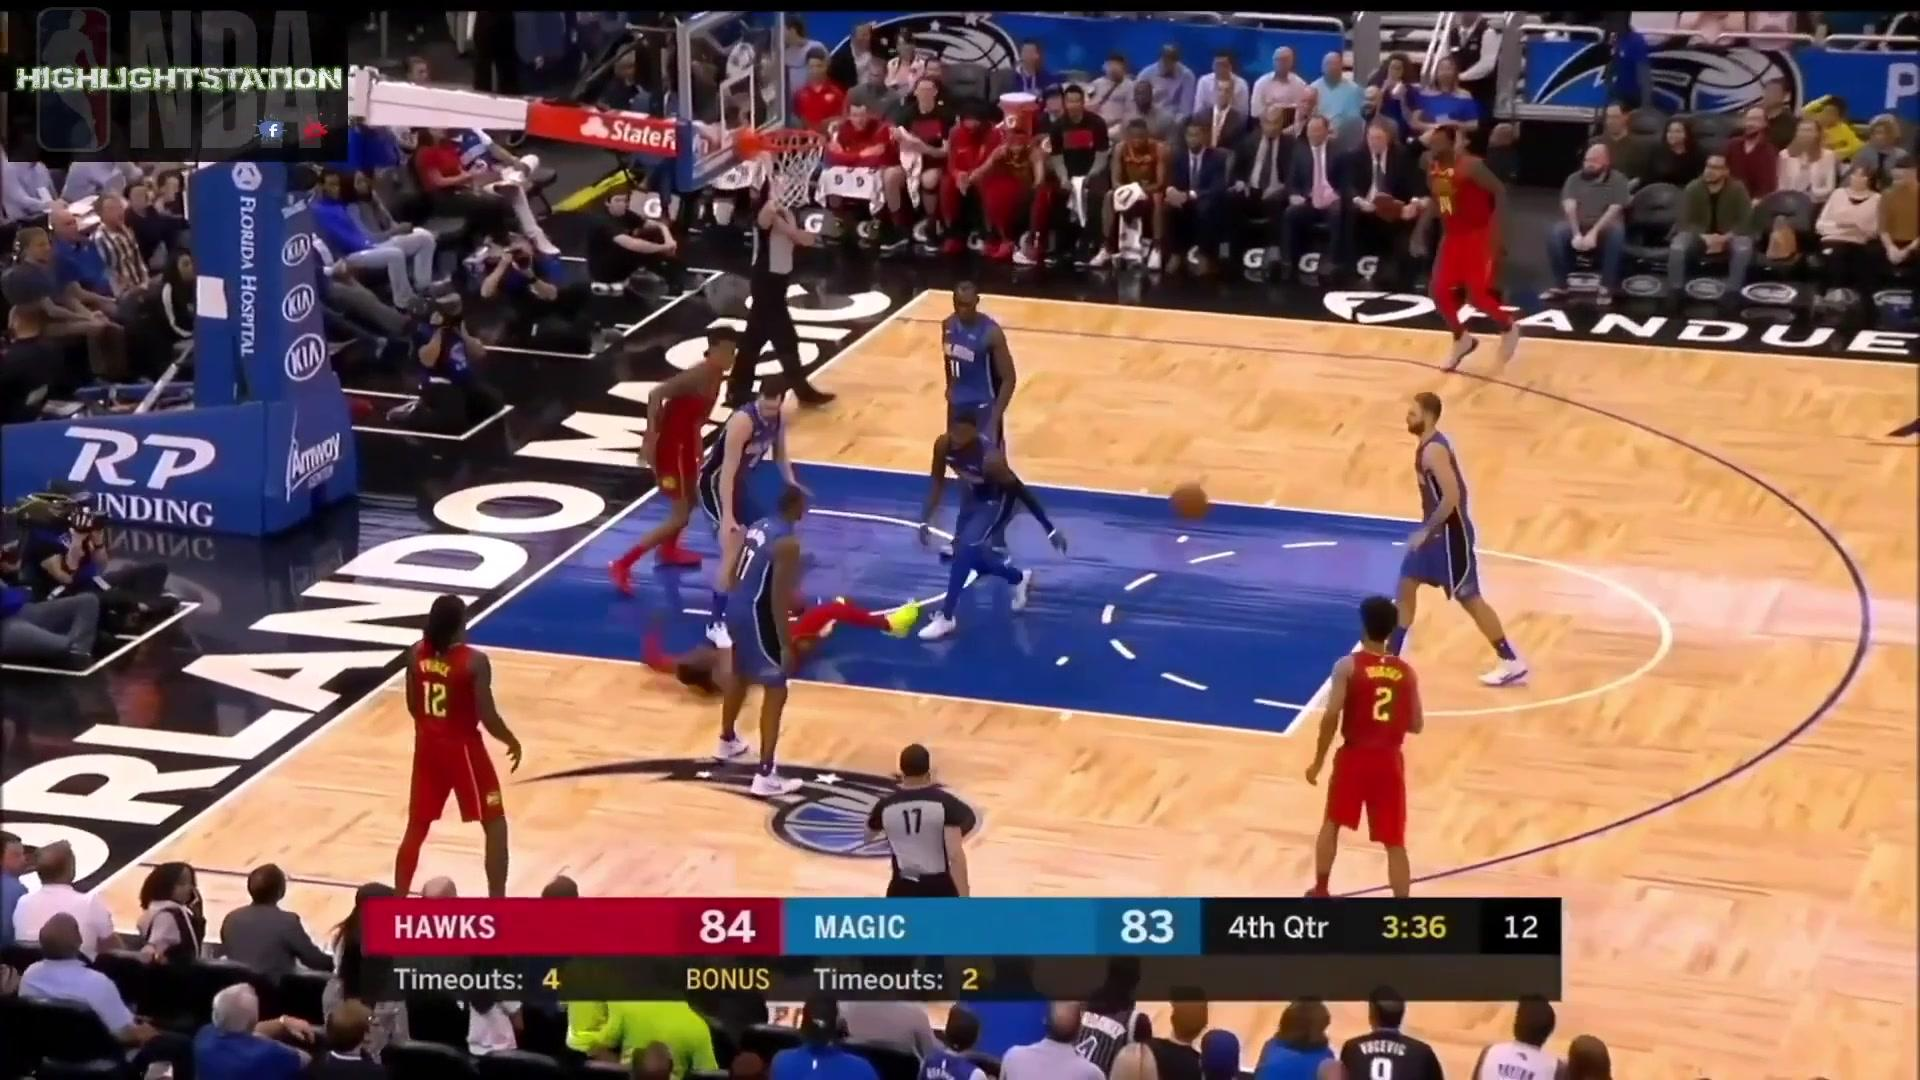no_foul: (608, 331, 795, 588)
